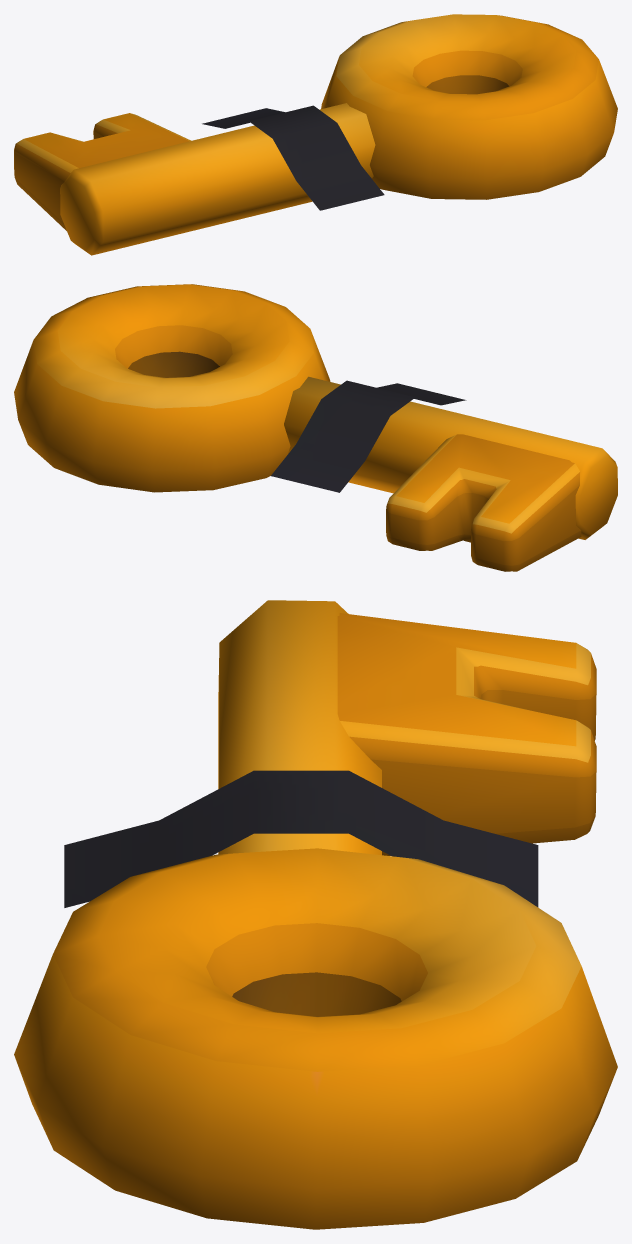
Rendered from Prop_Key.fbx.
The picture shows the model from 3 angles, top to bottom: view 1: azimuth 30°, elevation 25°; view 2: azimuth 150°, elevation 25°; view 3: azimuth 270°, elevation 25°; orthographic projection. The views are drawn at different scales.
Visible parts, largest first — view 1: Prop_Key; view 2: Prop_Key; view 3: Prop_Key.
Part boxes in pixels (bbox=[...]): Prop_Key: bbox=[14, 14, 617, 255]; Prop_Key: bbox=[14, 284, 617, 571]; Prop_Key: bbox=[14, 600, 617, 1229].
Size of the model in its own units: 52.44 by 9.17 by 26.16.
Materials: 1 (1 with a texture image).
